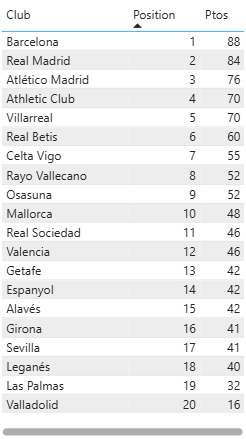

Layout of this report page (visuals, bound fields, positions):
{"tool":"powerbi","page":{"name":"Clasificación","canvas":[1280,720],"ordinal":3},"visuals":[{"type":"tableEx","fields":{"Values":["clasification_clean.Club","clasification_clean.Position","clasification_clean.Ptos"]},"box":[500.9,107,277.2,483],"z":0}]}

Visuals, with their boxes on the page's 1280x720 design canvas (x1, y1, x2, y2). These are canvas units, not pixel positions in the 246x439 screenshot, which may show the page scaled, cropped or inside an application window:
tableEx - clasification_clean.Club x clasification_clean.Position: crop(501, 107, 778, 590)
